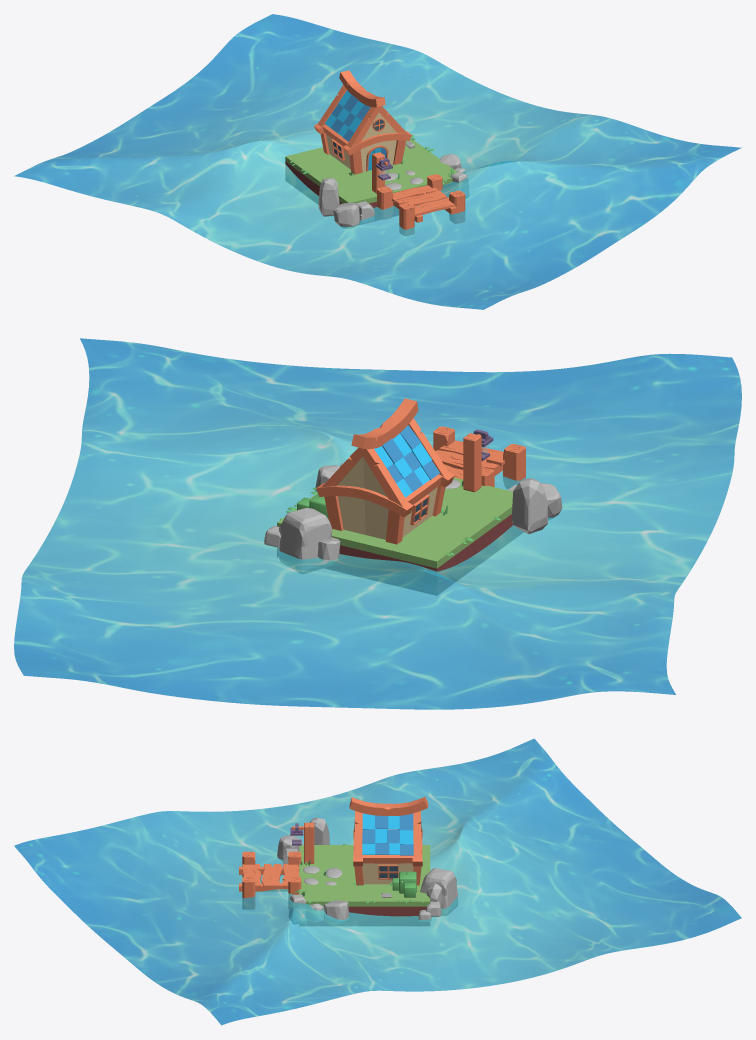
Rendered from casa_obj.glb.
The picture shows the model from 3 angles, top to bottom: view 1: azimuth 30°, elevation 25°; view 2: azimuth 150°, elevation 25°; view 3: azimuth 270°, elevation 25°; orthographic projection. The views are drawn at different scales.
Visible parts, largest first — view 1: Object_5, Object_18, Object_4, Object_16, Object_8, Object_6, Object_19, Object_20; view 2: Object_5, Object_18, Object_4, Object_16, Object_6, Object_8, Object_20, Object_19; view 3: Object_5, Object_18, Object_4, Object_16, Object_6, Object_20, Object_19, Object_17, Object_8, Object_14.
Boxes of the visible parts, x1,y1,x2,y2 form: Object_5: [14, 14, 741, 309]; Object_18: [314, 70, 465, 235]; Object_4: [285, 138, 456, 203]; Object_16: [318, 141, 468, 228]; Object_8: [326, 113, 396, 171]; Object_6: [285, 162, 451, 224]; Object_19: [324, 90, 380, 170]; Object_20: [331, 95, 386, 169]; Object_5: [14, 338, 741, 709]; Object_18: [316, 398, 525, 544]; Object_4: [277, 477, 512, 568]; Object_16: [264, 465, 562, 573]; Object_6: [277, 514, 523, 595]; Object_8: [337, 457, 437, 539]; Object_20: [382, 425, 439, 491]; Object_19: [374, 433, 431, 497]; Object_5: [14, 738, 741, 1025]; Object_18: [239, 797, 428, 909]; Object_4: [299, 845, 430, 906]; Object_16: [277, 817, 457, 924]; Object_6: [299, 906, 429, 925]; Object_20: [362, 813, 413, 855]; Object_19: [362, 813, 413, 854]; Object_17: [283, 848, 442, 921]; Object_8: [362, 813, 413, 884]; Object_14: [392, 871, 416, 897].
Bounding box in the file's own units: 66.1 × 10.7 × 70.84.
13 materials, 1 textured.
